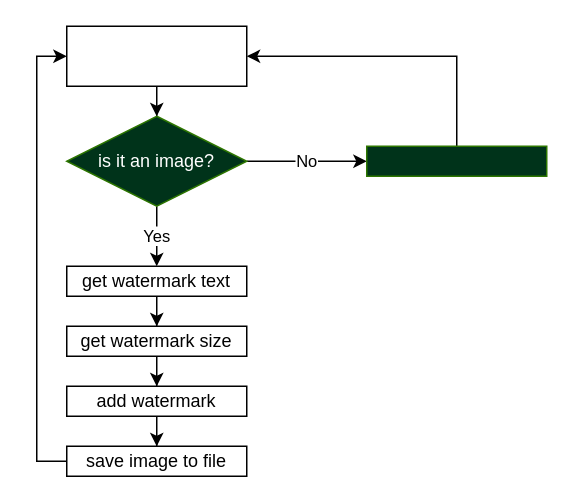
The diagram is 573 pixels wide and 503 high, and some of its shapes have lost their labels. Here are the shapes that lost their labels. From the top down, the centre of each, then its label:
(156,55): get file for watermarking
(456,160): show error
